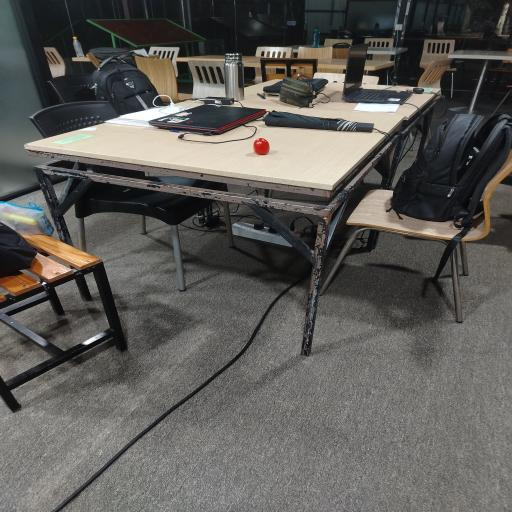spoiled: (253, 138, 269, 155)
